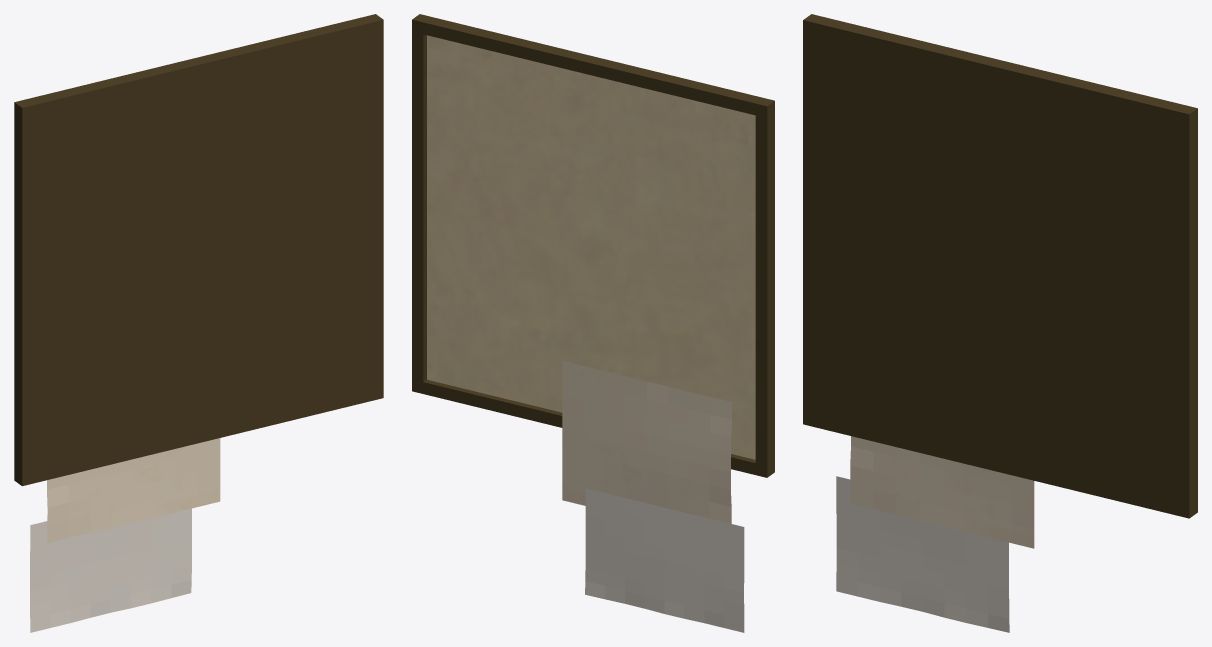
File: rules.fbx
3 views of the same model, side by side, from view 1: azimuth 30°, elevation 25°; view 2: azimuth 150°, elevation 25°; view 3: azimuth 330°, elevation 25° (orthographic). The views are drawn at different scales.
Visible parts, largest first — view 1: Plane.003; view 2: Plane.003; view 3: Plane.003.
Part boxes in pixels (<box>): Plane.003: <box>14,14,383,632</box>; Plane.003: <box>412,14,774,632</box>; Plane.003: <box>803,14,1197,632</box>.
Bounding box in the file's own units: 200 × 285 × 11.66.
Materials: 1 (1 with a texture image).
